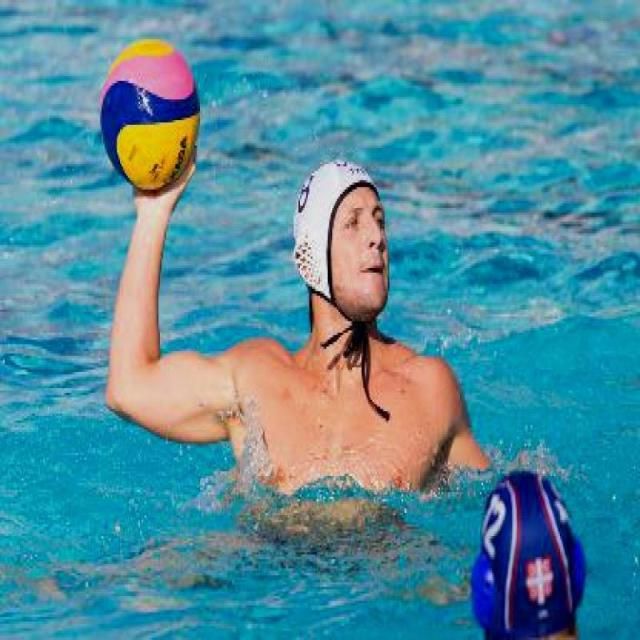volleyball: (98, 37, 200, 192)
